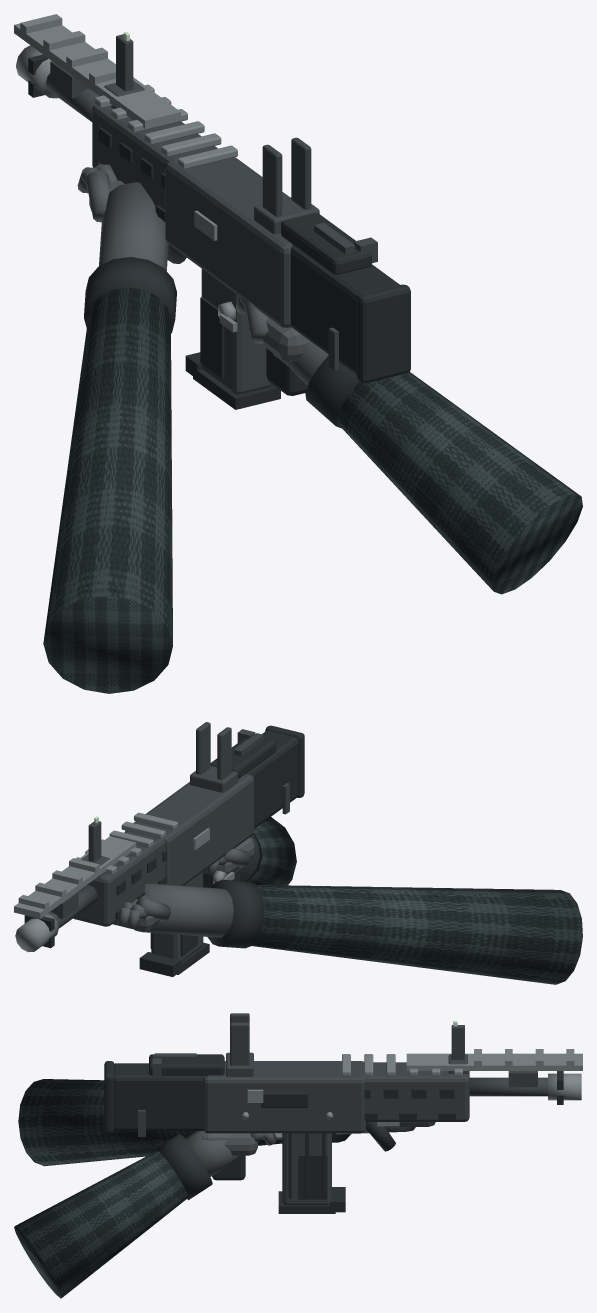
The model's file is fps_kit.glb.
The picture shows the model from 3 angles, top to bottom: view 1: azimuth 30°, elevation 25°; view 2: azimuth 150°, elevation 25°; view 3: azimuth 270°, elevation 25°; orthographic projection. The views are drawn at different scales.
Visible parts, largest first — view 1: WeaponMesh, LeftArmMesh, RightArmMesh, Magazine, Magazine window left, Magazine baseplate; view 2: LeftArmMesh, WeaponMesh, RightArmMesh, Magazine, Magazine toe, Magazine baseplate; view 3: WeaponMesh, RightArmMesh, LeftArmMesh, Magazine, Magazine window right, Magazine baseplate, Magazine toe.
Part boxes in pixels (<box>): WeaponMesh: <box>14,14,410,395</box>; LeftArmMesh: <box>43,164,176,693</box>; RightArmMesh: <box>236,296,582,594</box>; Magazine: <box>201,269,271,394</box>; Magazine window left: <box>200,297,224,378</box>; Magazine baseplate: <box>193,368,280,409</box>; LeftArmMesh: <box>112,879,582,984</box>; WeaponMesh: <box>14,722,304,952</box>; RightArmMesh: <box>203,817,296,885</box>; Magazine: <box>151,872,203,960</box>; Magazine toe: <box>139,952,181,976</box>; Magazine baseplate: <box>177,942,209,974</box>; WeaponMesh: <box>104,1013,582,1180</box>; RightArmMesh: <box>14,1131,276,1298</box>; LeftArmMesh: <box>18,1079,435,1166</box>; Magazine: <box>282,1133,331,1204</box>; Magazine window right: <box>298,1155,327,1199</box>; Magazine baseplate: <box>278,1191,335,1213</box>; Magazine toe: <box>330,1187,345,1212</box>.
Size of the model in its own units: 0.7279 by 0.49 by 1.02.
6 materials, 1 textured.
